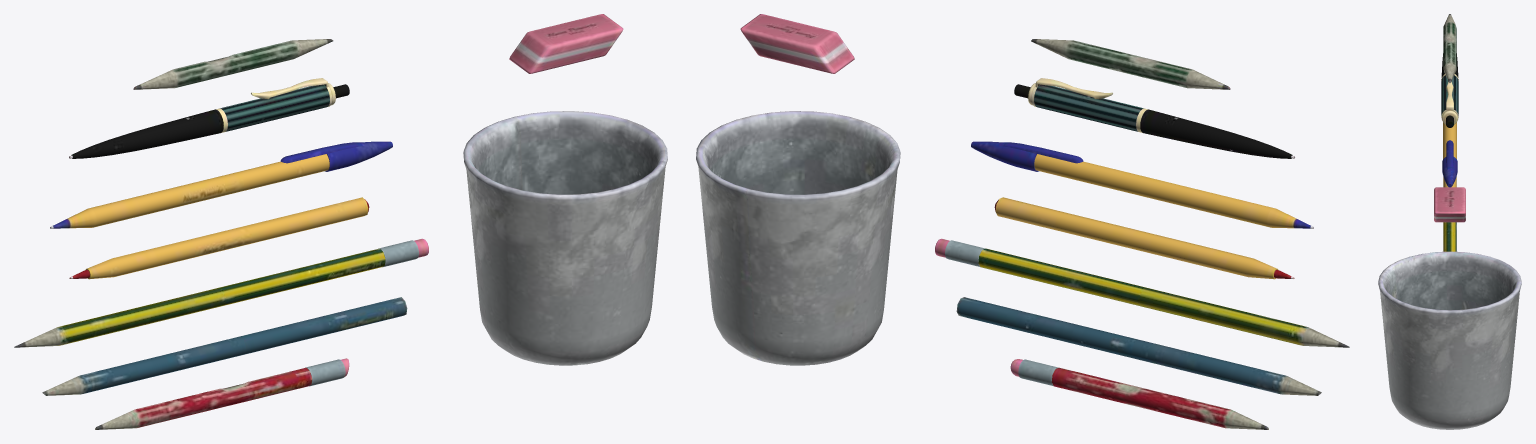
3 views of the same model, side by side, from view 1: azimuth 30°, elevation 25°; view 2: azimuth 150°, elevation 25°; view 3: azimuth 270°, elevation 25° (orthographic). The views are drawn at different scales.
Visible parts, largest first — view 1: stationery_supplies_pencilcup, stationery_supplies_pencil_new_a, stationery_supplies_pencil_new_b, stationery_supplies_pen_blue, stationery_supplies_pen_fancy, stationery_supplies_pen_red, stationery_supplies_pencil_used, stationery_supplies_eraser, stationery_supplies_pencil_old; view 2: stationery_supplies_pencilcup, stationery_supplies_pencil_new_a, stationery_supplies_pencil_new_b, stationery_supplies_pen_blue, stationery_supplies_pen_fancy, stationery_supplies_pen_red, stationery_supplies_pencil_used, stationery_supplies_eraser, stationery_supplies_pencil_old; view 3: stationery_supplies_pencilcup, stationery_supplies_eraser, stationery_supplies_pen_fancy, stationery_supplies_pen_blue, stationery_supplies_pencil_old, stationery_supplies_pencil_new_a.
Boxes of the visible parts, bbox=[...] form: stationery_supplies_pencilcup: bbox=[463, 111, 667, 365]; stationery_supplies_pencil_new_a: bbox=[14, 238, 428, 347]; stationery_supplies_pencil_new_b: bbox=[42, 297, 407, 395]; stationery_supplies_pen_blue: bbox=[50, 141, 392, 228]; stationery_supplies_pen_fancy: bbox=[69, 78, 349, 158]; stationery_supplies_pen_red: bbox=[69, 197, 369, 279]; stationery_supplies_pencil_used: bbox=[95, 358, 349, 429]; stationery_supplies_eraser: bbox=[509, 14, 623, 73]; stationery_supplies_pencil_old: bbox=[133, 39, 333, 89]; stationery_supplies_pencilcup: bbox=[696, 111, 900, 365]; stationery_supplies_pencil_new_a: bbox=[935, 238, 1349, 347]; stationery_supplies_pencil_new_b: bbox=[956, 297, 1321, 395]; stationery_supplies_pen_blue: bbox=[971, 141, 1313, 228]; stationery_supplies_pen_fancy: bbox=[1014, 78, 1294, 158]; stationery_supplies_pen_red: bbox=[994, 197, 1294, 279]; stationery_supplies_pencil_used: bbox=[1010, 359, 1268, 429]; stationery_supplies_eraser: bbox=[740, 14, 854, 73]; stationery_supplies_pencil_old: bbox=[1031, 39, 1230, 89]; stationery_supplies_pencilcup: bbox=[1378, 251, 1521, 429]; stationery_supplies_eraser: bbox=[1434, 187, 1465, 222]; stationery_supplies_pen_fancy: bbox=[1441, 53, 1458, 127]; stationery_supplies_pen_blue: bbox=[1442, 122, 1457, 187]; stationery_supplies_pencil_old: bbox=[1443, 14, 1456, 82]; stationery_supplies_pencil_new_a: bbox=[1443, 222, 1456, 251].
Size of the model in its own units: 0.3019 by 0.1643 by 0.0837.
1 material, 1 textured.
